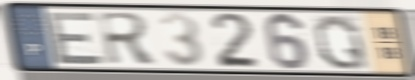2: (209, 11, 263, 70)
3: (159, 10, 204, 70)
6: (263, 11, 310, 72)
E: (46, 10, 107, 66)
Q: (311, 12, 371, 72)
R: (95, 11, 161, 67)
